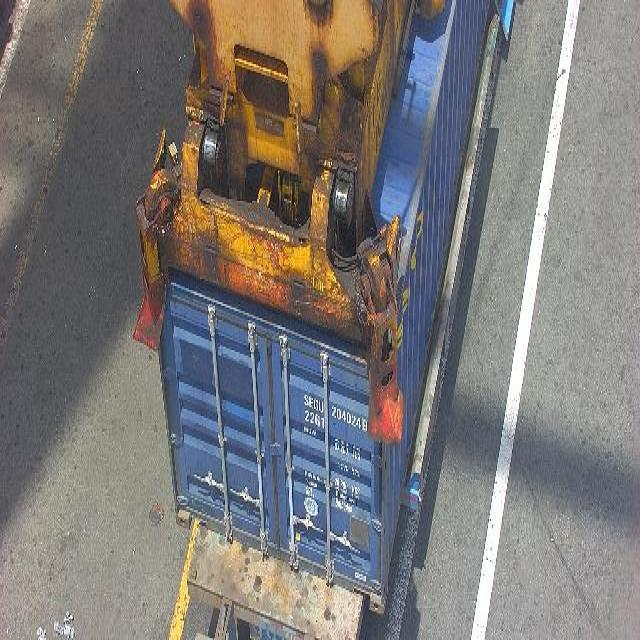ISO: (304, 410, 325, 428)
container_number: (303, 387, 367, 432)
